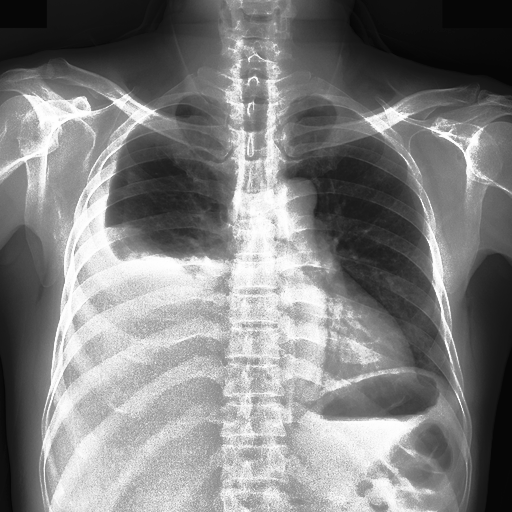Aortic enlargement: (102, 220, 176, 272)
Pleural effusion: (62, 133, 230, 411)
Pleural thickening: (104, 226, 157, 259)
